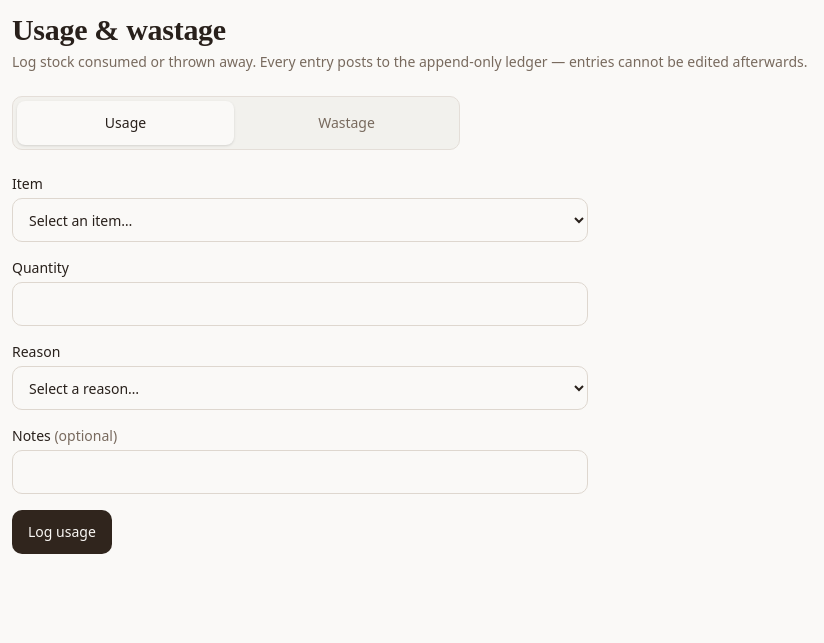
Test case: WastagePage › shows inline validation errors on empty submit
The image size is (824, 643).
Click the button "Log usage" at {"x": 62, "y": 532}, box [12,510,112,554]
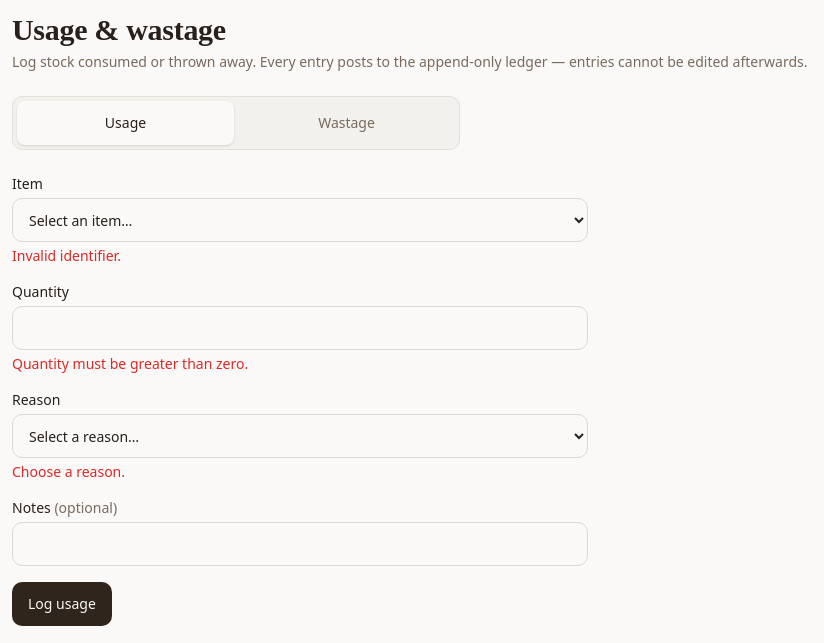
Expected: the message "Invalid identifier." is shown, [12,246,121,265]
